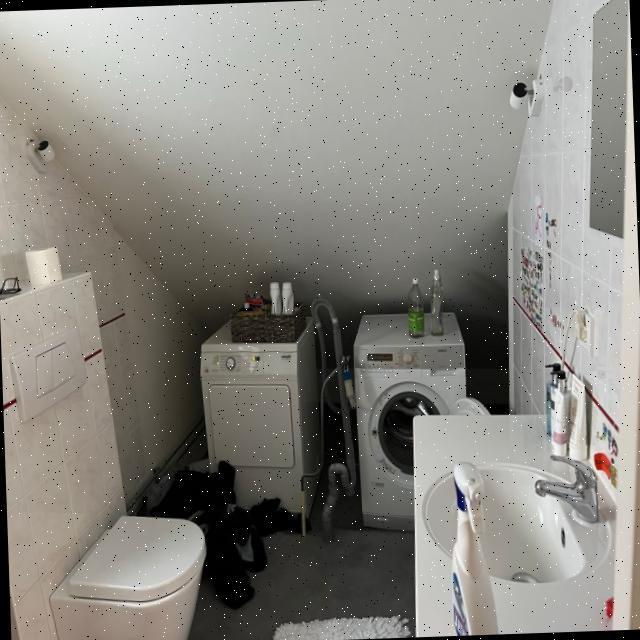wastafel: (0, 322, 208, 640), (417, 447, 640, 592)
